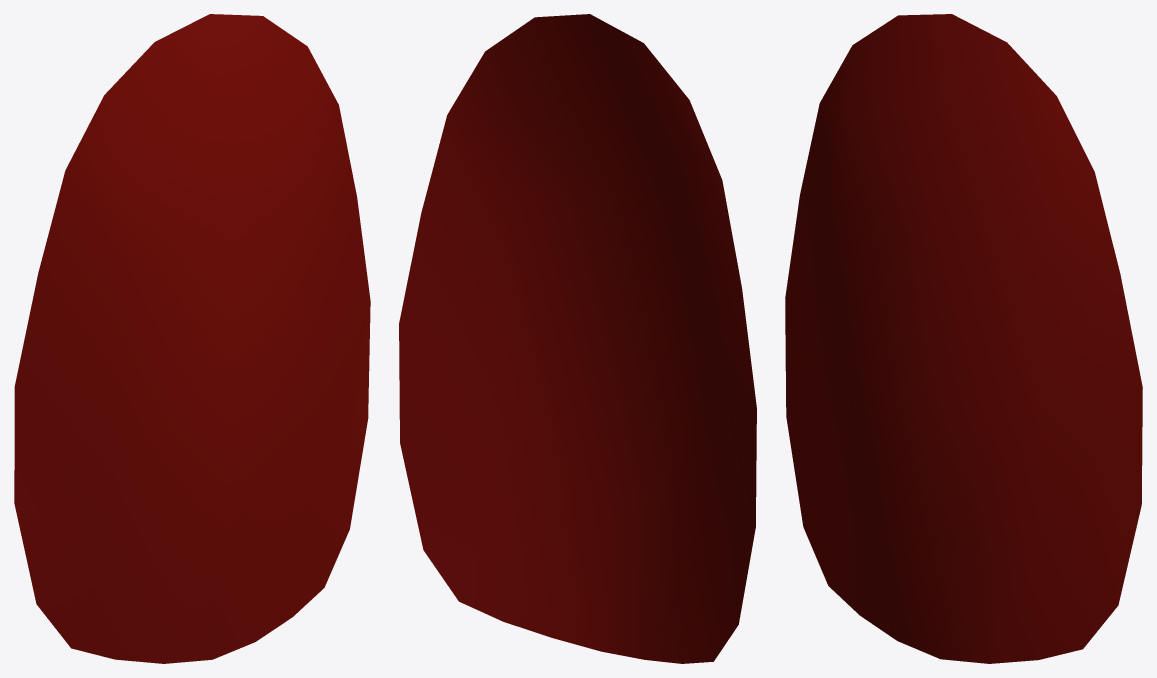
Rendered from MD_nail_natural_HandR.Ring.fbx.
3 renders of one model, left to right at view 1: azimuth 30°, elevation 25°; view 2: azimuth 150°, elevation 25°; view 3: azimuth 330°, elevation 25°, orthographic.
Parts seen in each view (by area): view 1: MD_nail_natural_HandR.Ring; view 2: MD_nail_natural_HandR.Ring; view 3: MD_nail_natural_HandR.Ring.
Boxes of the visible parts, x1,y1,x2,y2 form: MD_nail_natural_HandR.Ring: [14, 14, 370, 663]; MD_nail_natural_HandR.Ring: [399, 14, 756, 663]; MD_nail_natural_HandR.Ring: [785, 14, 1142, 663].
Bounding box in the file's own units: 0.6934 × 1.19 × 0.1321.
